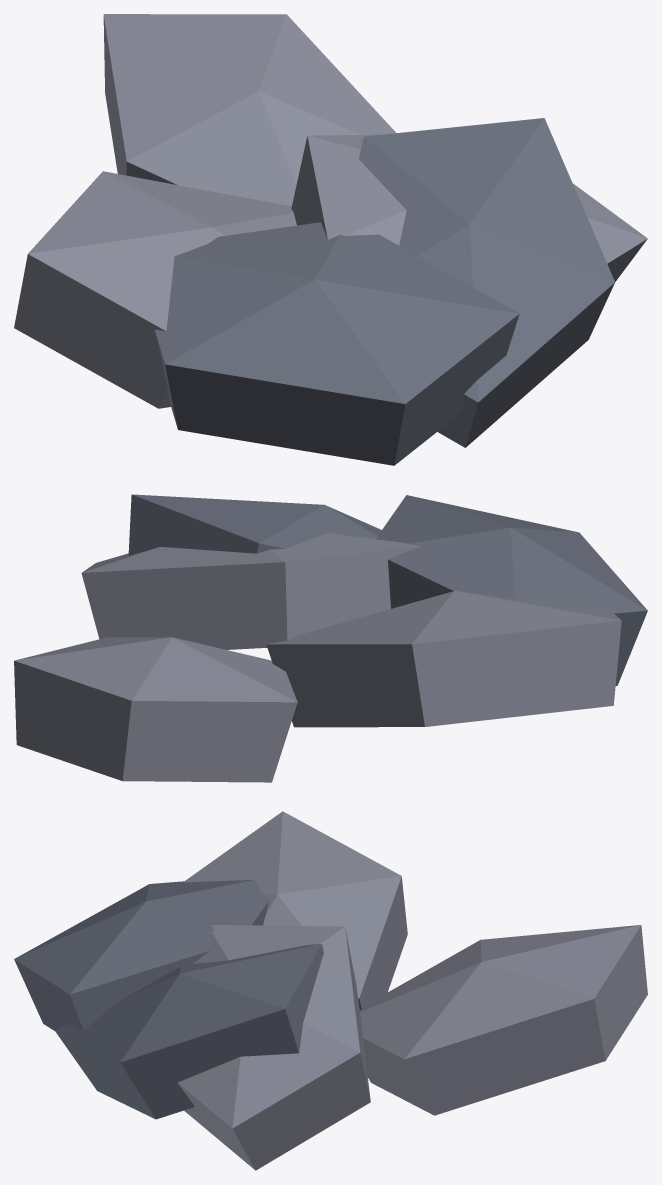
Rendered from plant-mineralChips.glb.
The picture shows the model from 3 angles, top to bottom: view 1: azimuth 30°, elevation 25°; view 2: azimuth 150°, elevation 25°; view 3: azimuth 270°, elevation 25°; orthographic projection. The views are drawn at different scales.
Visible parts, largest first — view 1: plant-mineralChips; view 2: plant-mineralChips; view 3: plant-mineralChips.
Part boxes in pixels (<box>): plant-mineralChips: <box>14,14,647,465</box>; plant-mineralChips: <box>14,494,647,782</box>; plant-mineralChips: <box>14,811,647,1170</box>.
Bounding box in the file's own units: 0.8448 × 0.2747 × 0.9704.
